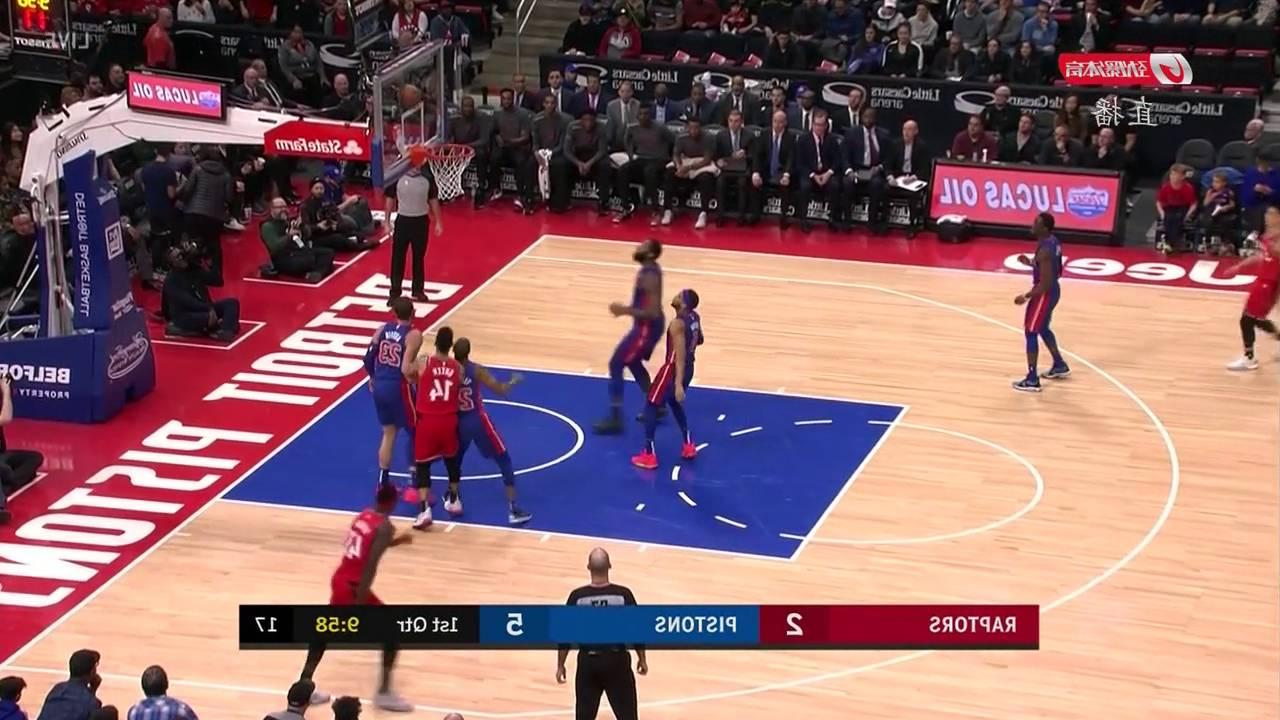basketball: (399, 82, 424, 110)
